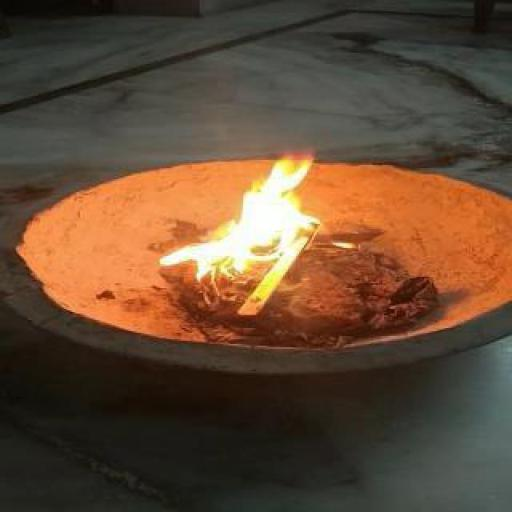smoke: (146, 148, 328, 282)
